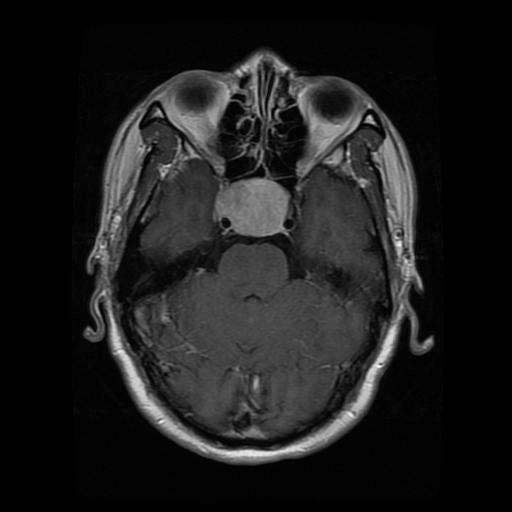Tumour-Pituitary: (214, 180, 304, 241)
